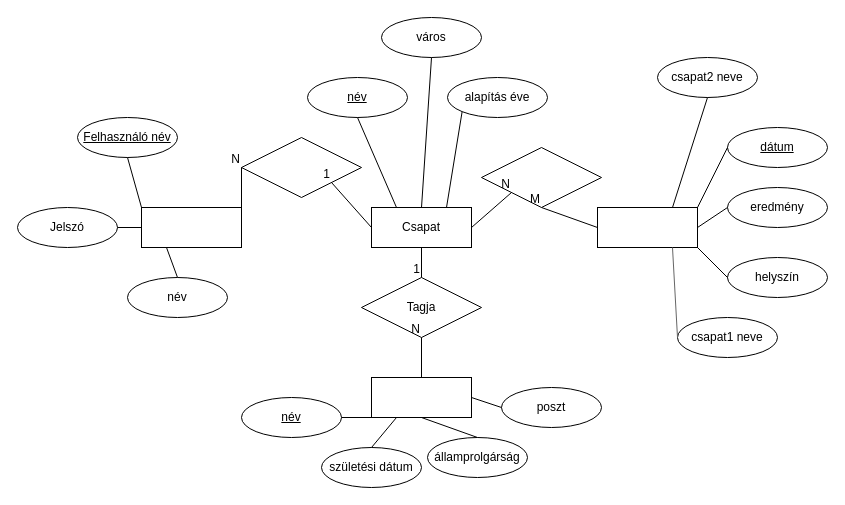
Some shapes in this 845 by 505 pixel diagram are drawn without their labels. Each missing label, with the centre of its shape:
"Felhasználó" belongs at (191,227).
"Játszik" belongs at (301,167).
"Mérkőzések" belongs at (647,227).
"Részt vesz" belongs at (541,177).
"Tagok" belongs at (421,397).
